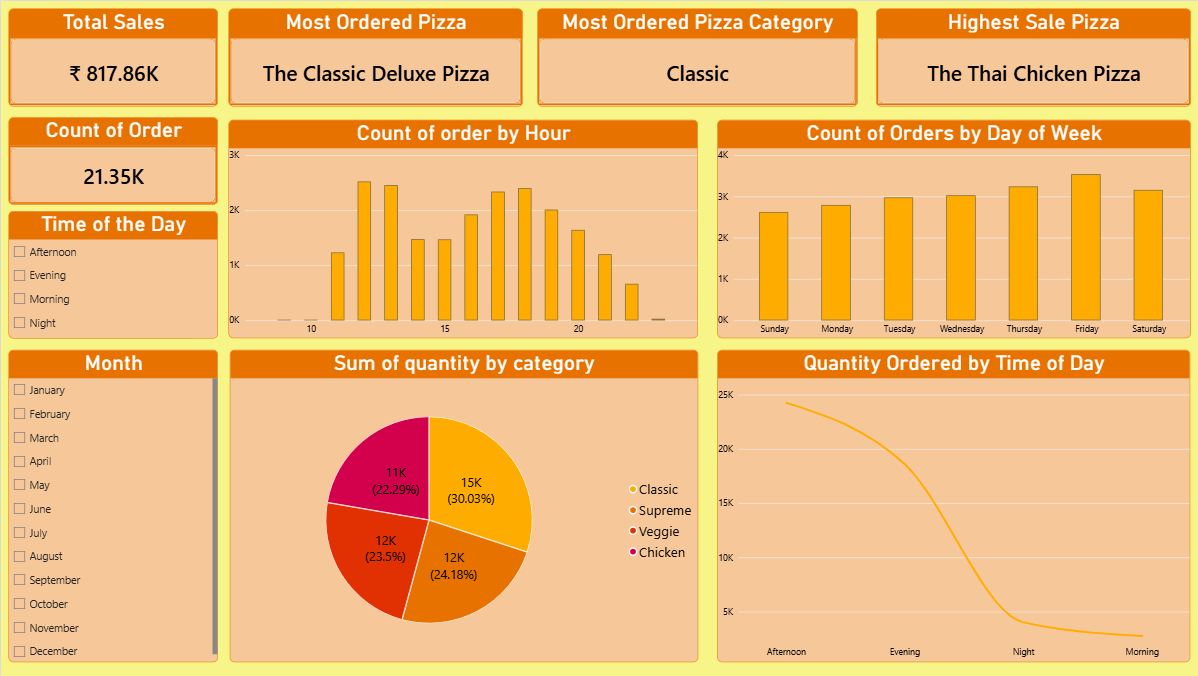

What the dashboard file says about the page in this screenshot:
{"tool":"powerbi","page":{"name":"Page 1","canvas":[1920,1080],"ordinal":0},"visuals":[{"type":"cardVisual","title":"Total Sales","fields":{"Data":["order_details.TotalSales"]},"box":[12.3,12.3,335.5,156.4],"z":0},{"type":"cardVisual","title":"Count of Order","fields":{"Data":["CountNonNull(orders.order_id)"]},"box":[12.3,185.2,335.5,140],"z":1000},{"type":"columnChart","title":"Count of order by Hour","fields":{"Category":["orders.Hour"],"Y":["CountNonNull(orders.order_id)"]},"box":[364.3,189.4,751.3,349.9],"z":2000},{"type":"columnChart","title":"Count of Orders by Day of Week","fields":{"Category":["orders.Day Name"],"Y":["CountNonNull(orders.order_id)"]},"box":[1146.5,189.4,757.5,349.9],"z":3000},{"type":"slicer","title":"Month","fields":{"Values":["orders.Month Name"]},"box":[12.3,557.8,335.5,500.2],"z":4000},{"type":"cardVisual","title":"Most Ordered Pizza","fields":{"Data":["pizza_types.Most Ordered Pizza"]},"box":[364.3,12.3,471.4,156.4],"z":5000},{"type":"cardVisual","title":"Highest Sale Pizza","fields":{"Data":["pizza_types.Highest Sales Pizza"]},"box":[1399.7,12.3,504.3,156.4],"z":5001},{"type":"slicer","title":"Time of the Day","fields":{"Values":["orders.DayTime"]},"box":[12.3,335.5,335.5,203.8],"z":5002},{"type":"cardVisual","title":"Most Ordered Pizza Category","fields":{"Data":["pizza_types.Most Ordered Pizza Category"]},"box":[858.3,12.3,512.5,156.4],"z":5003},{"type":"pieChart","fields":{"Category":["pizza_types.category"],"Y":["Sum(order_details.quantity)"]},"box":[366.4,557.8,749.2,500.2],"z":5004},{"type":"lineChart","title":"Quantity Ordered by Time of Day","fields":{"Category":["orders.DayTime"],"Y":["Sum(order_details.quantity)"]},"box":[1146,558,757,500],"z":5005}]}

Visuals, with their boxes in screenshot pixels (x1, y1, x2, y2), scaled from the page's 1920x1080 canvas onto the 1198x676 screenshot:
"Total Sales" cardVisual: (8,8,217,106)
"Count of Order" cardVisual: (8,116,217,204)
"Count of order by Hour" columnChart: (227,119,696,338)
"Count of Orders by Day of Week" columnChart: (715,119,1188,338)
"Month" slicer: (8,349,217,662)
"Most Ordered Pizza" cardVisual: (227,8,521,106)
"Highest Sale Pizza" cardVisual: (873,8,1188,106)
"Time of the Day" slicer: (8,210,217,338)
"Most Ordered Pizza Category" cardVisual: (536,8,855,106)
pieChart - pizza_types.category x Sum(order_details.quantity): (229,349,696,662)
"Quantity Ordered by Time of Day" lineChart: (715,349,1187,662)
